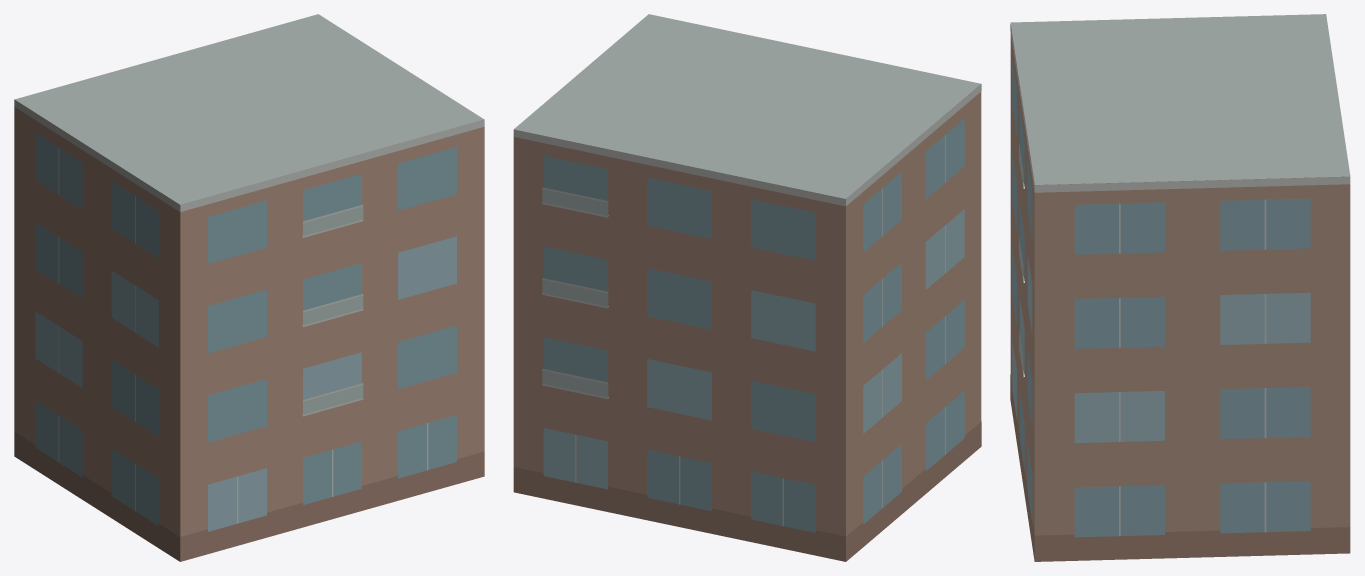
File: survey-upis-32929081.glb
3 views of the same model, side by side, from view 1: azimuth 30°, elevation 25°; view 2: azimuth 150°, elevation 25°; view 3: azimuth 270°, elevation 25° (orthographic). The views are drawn at different scales.
Visible parts, largest first — view 1: survey-upis-32929081.tmp; view 2: survey-upis-32929081.tmp; view 3: survey-upis-32929081.tmp.
Part boxes in pixels (<box>): survey-upis-32929081.tmp: <box>14,14,484,561</box>; survey-upis-32929081.tmp: <box>513,14,981,561</box>; survey-upis-32929081.tmp: <box>1010,14,1350,561</box>.
Size of the model in its own units: 11.64 by 11.95 by 9.78.
